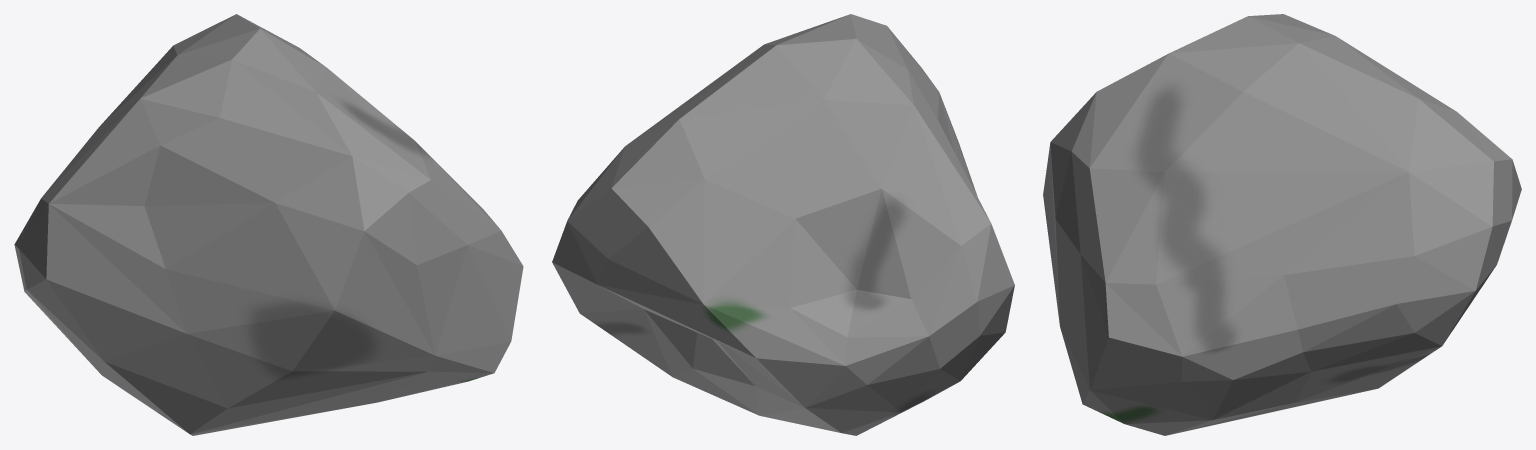
File: Rock.fbx
The picture shows the model from 3 angles, left to right: view 1: azimuth 30°, elevation 25°; view 2: azimuth 150°, elevation 25°; view 3: azimuth 270°, elevation 25°; orthographic projection.
Parts seen in each view (by area): view 1: Rock; view 2: Rock; view 3: Rock.
Boxes of the visible parts, x1,y1,x2,y2 form: Rock: (14, 14, 523, 435); Rock: (552, 14, 1014, 435); Rock: (1043, 14, 1521, 435).
Bounding box in the file's own units: 150 × 128 × 152.
